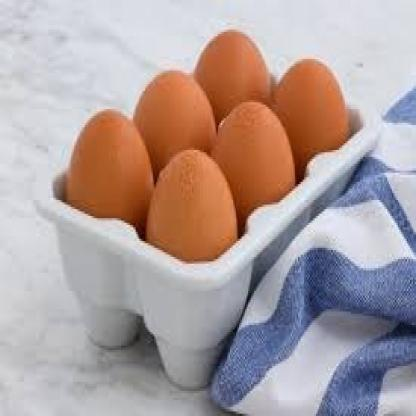egg: (210, 98, 298, 236), (66, 106, 155, 237), (146, 148, 240, 265), (268, 56, 352, 181), (131, 69, 220, 186), (191, 26, 274, 138)
